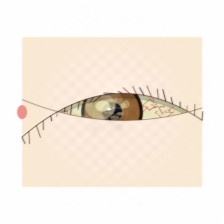corneal_ulcer: (75, 86, 125, 126)
